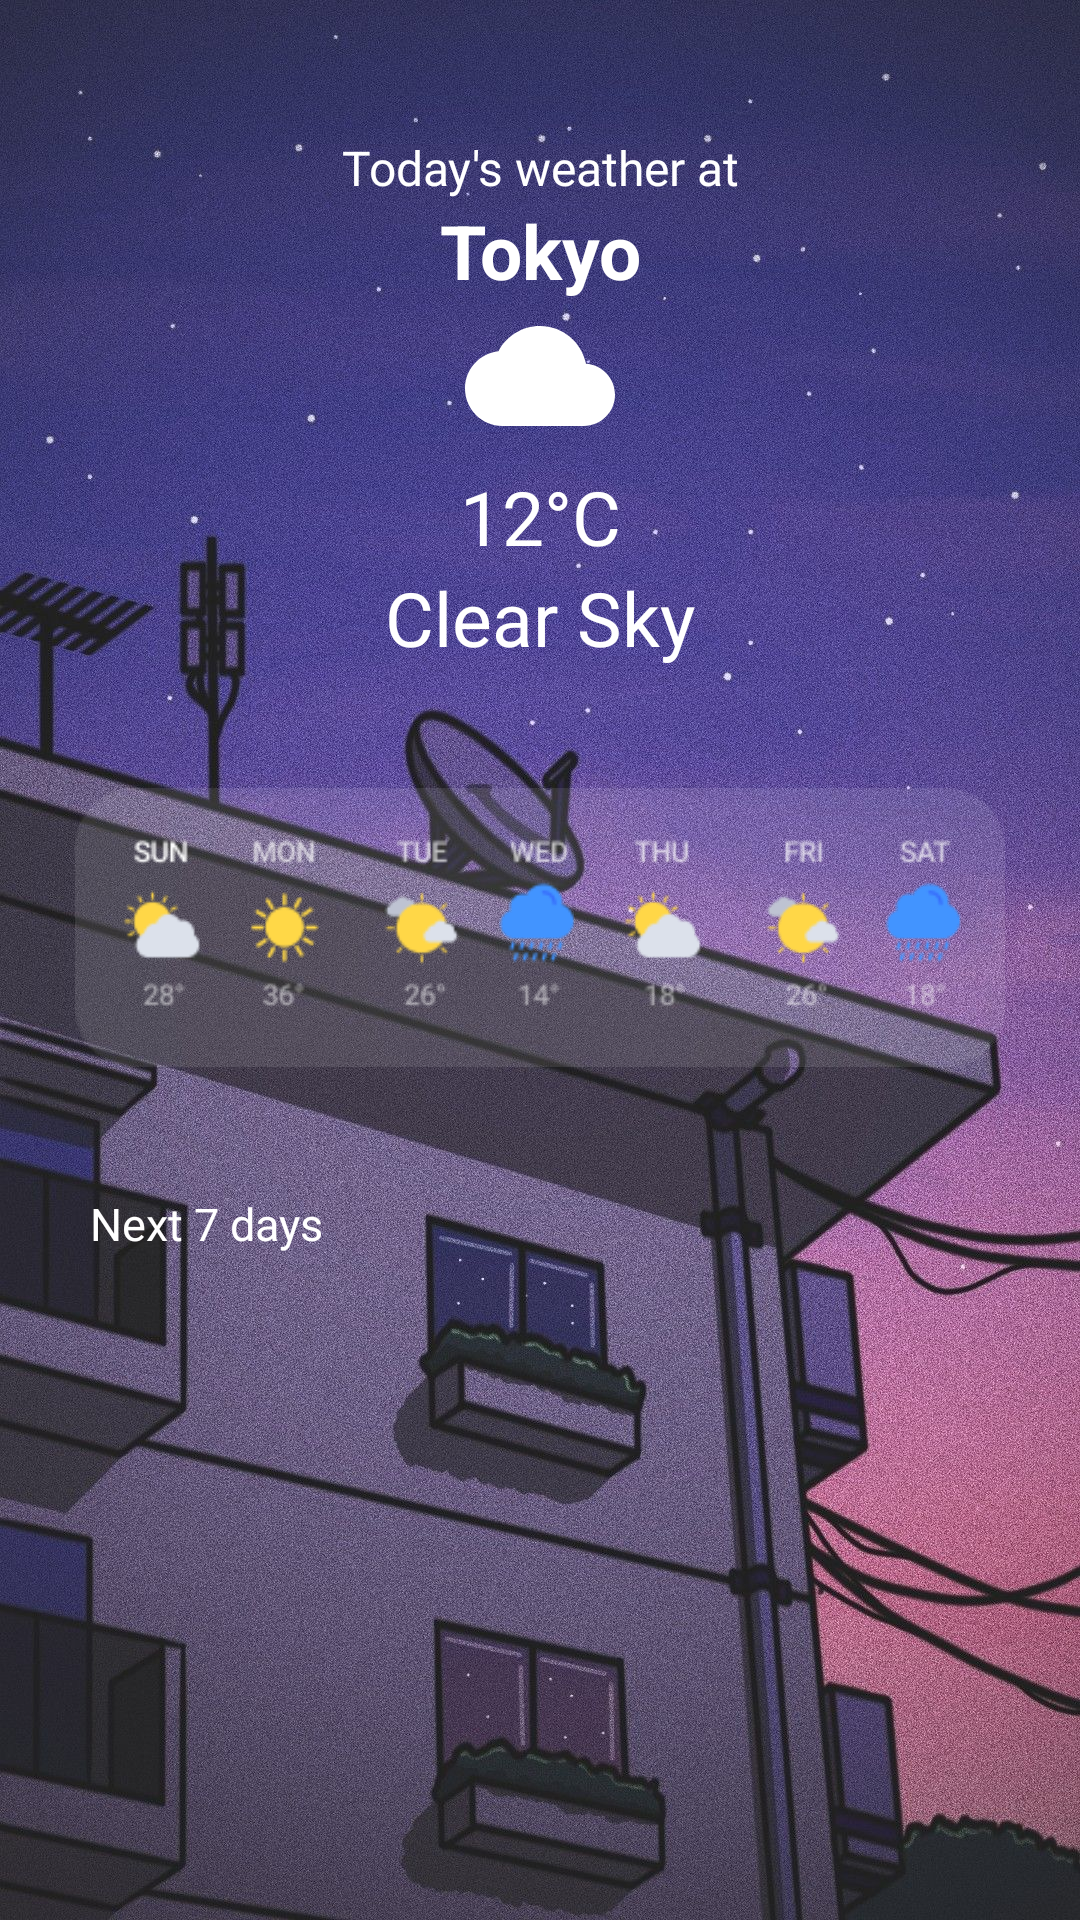

Icons on this 1080px×1920px Android screen, each with the point to tap as (x,y):
cloud: (540,376)
